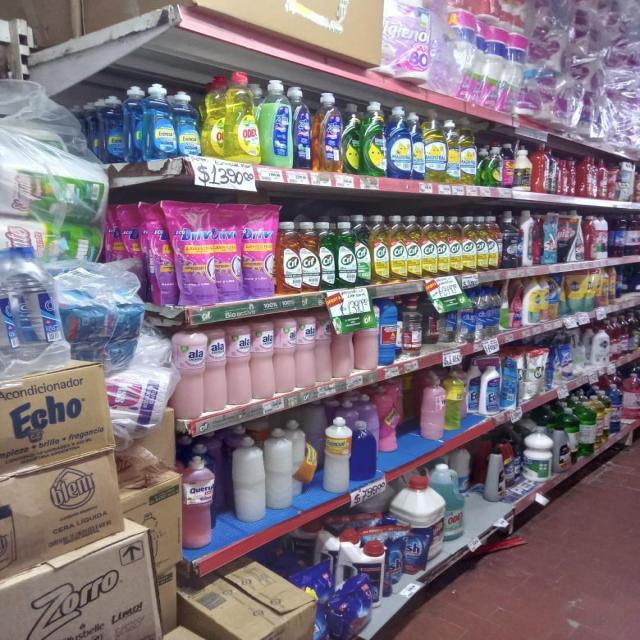ala_crem_rosado: (173, 328, 204, 420), (227, 323, 251, 406), (251, 320, 274, 400), (205, 326, 226, 412), (275, 316, 295, 395), (333, 310, 353, 380), (296, 314, 314, 388), (316, 311, 332, 384)
cif_conc_bot_amarilla: (372, 214, 388, 284), (389, 215, 405, 283), (406, 215, 421, 280), (421, 215, 436, 278), (448, 216, 461, 274), (436, 215, 448, 276), (462, 216, 474, 274), (475, 215, 487, 272), (488, 214, 499, 270)
cif_conc_botella_roja: (278, 220, 300, 294), (300, 220, 319, 292)
cif_conc_botella_verde: (336, 219, 354, 288), (320, 220, 336, 290), (355, 214, 370, 286)
drive: (242, 203, 276, 299)
esencial: (324, 415, 351, 494), (352, 419, 376, 483)
magistral_con_amarillo: (425, 116, 446, 183), (460, 120, 478, 185), (446, 119, 461, 184)
magistral_con_azul: (388, 106, 410, 179), (410, 111, 424, 181)
zorro: (261, 79, 292, 167)
